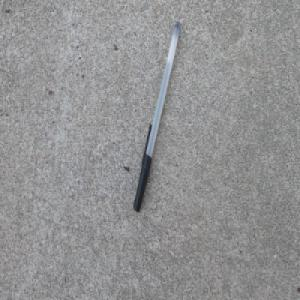Pen: (132, 17, 182, 214)
